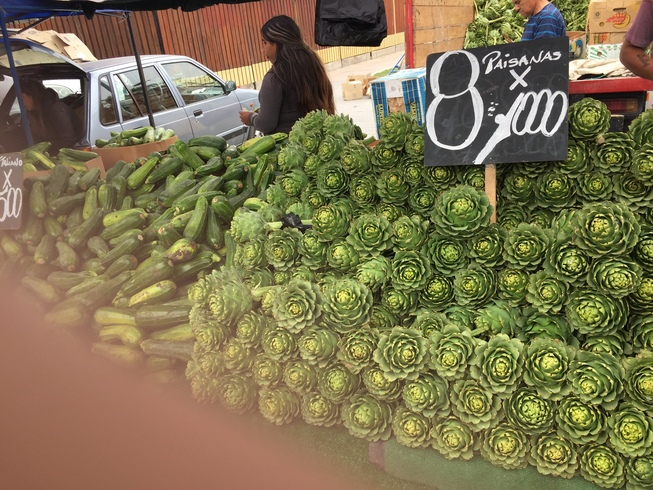precio: (427, 44, 571, 161)
